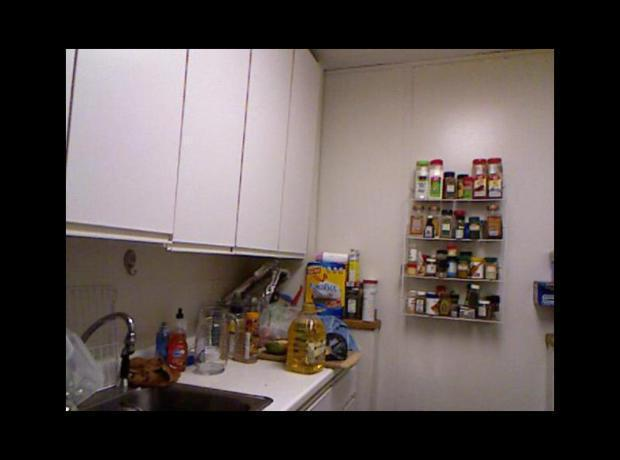Lavaplatos: (71, 308, 275, 410)
